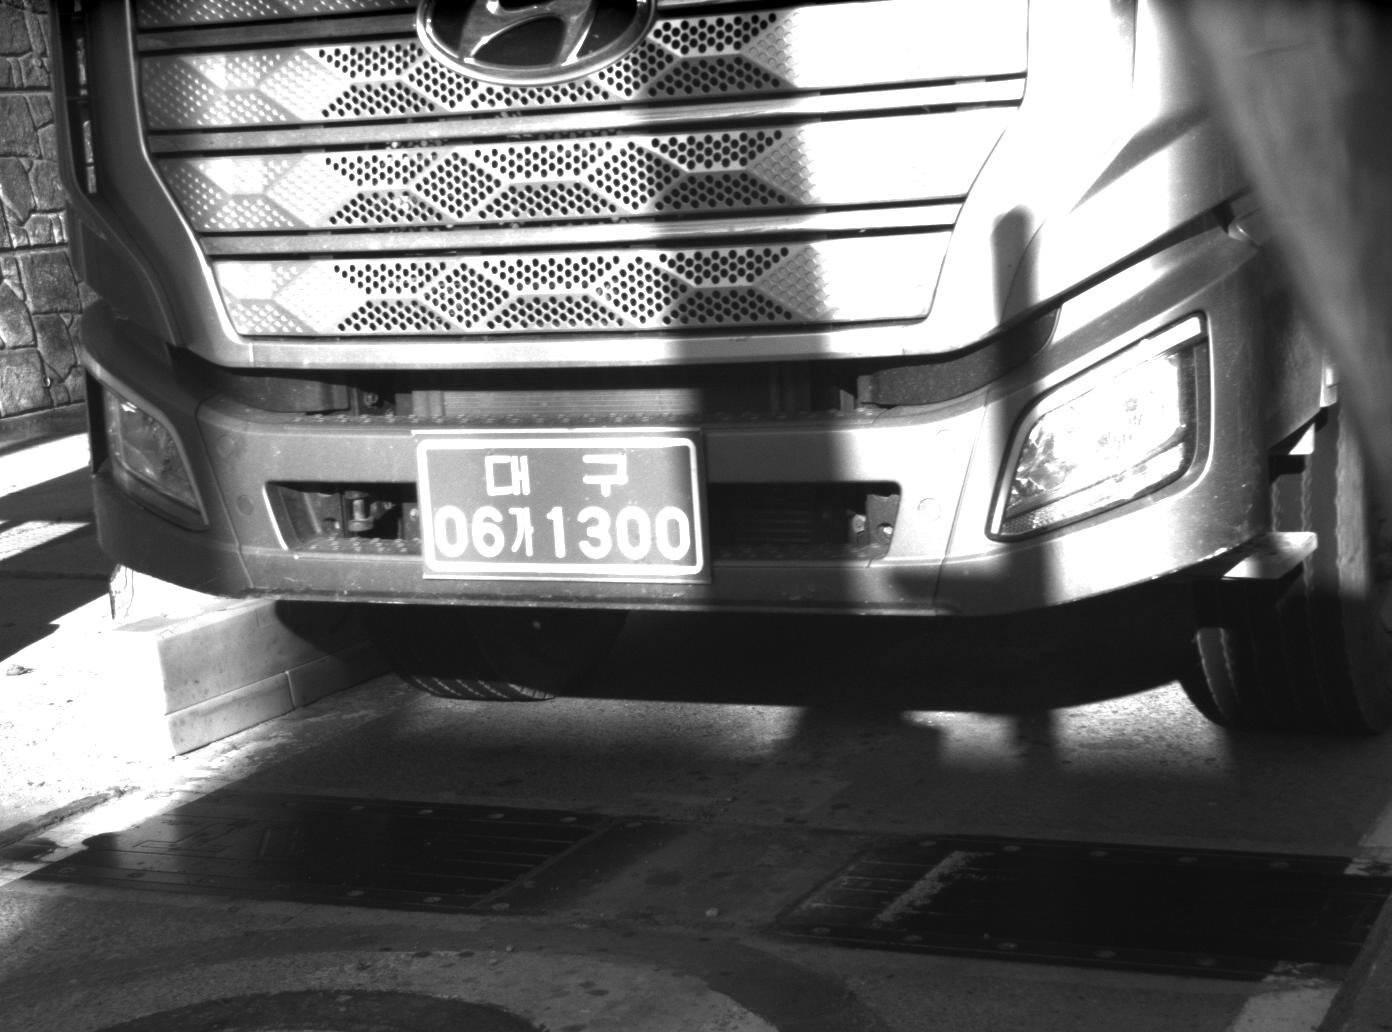car: (47, 1, 1392, 726)
plate: (413, 432, 707, 580)
